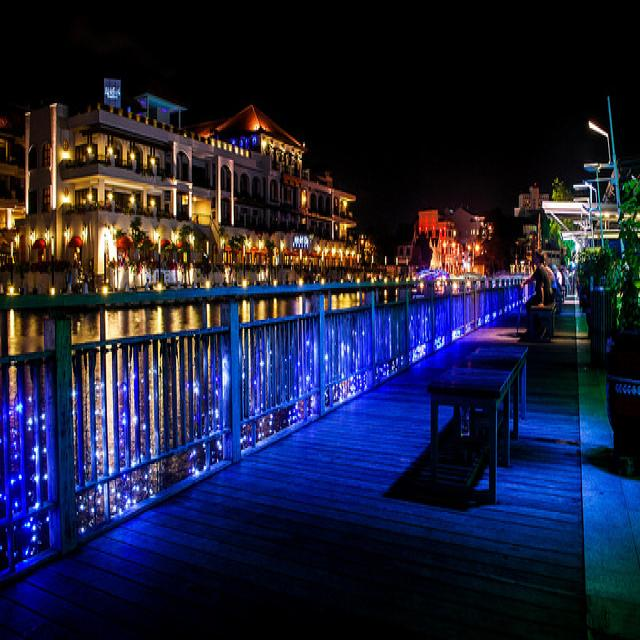chair: (409, 336, 539, 521)
